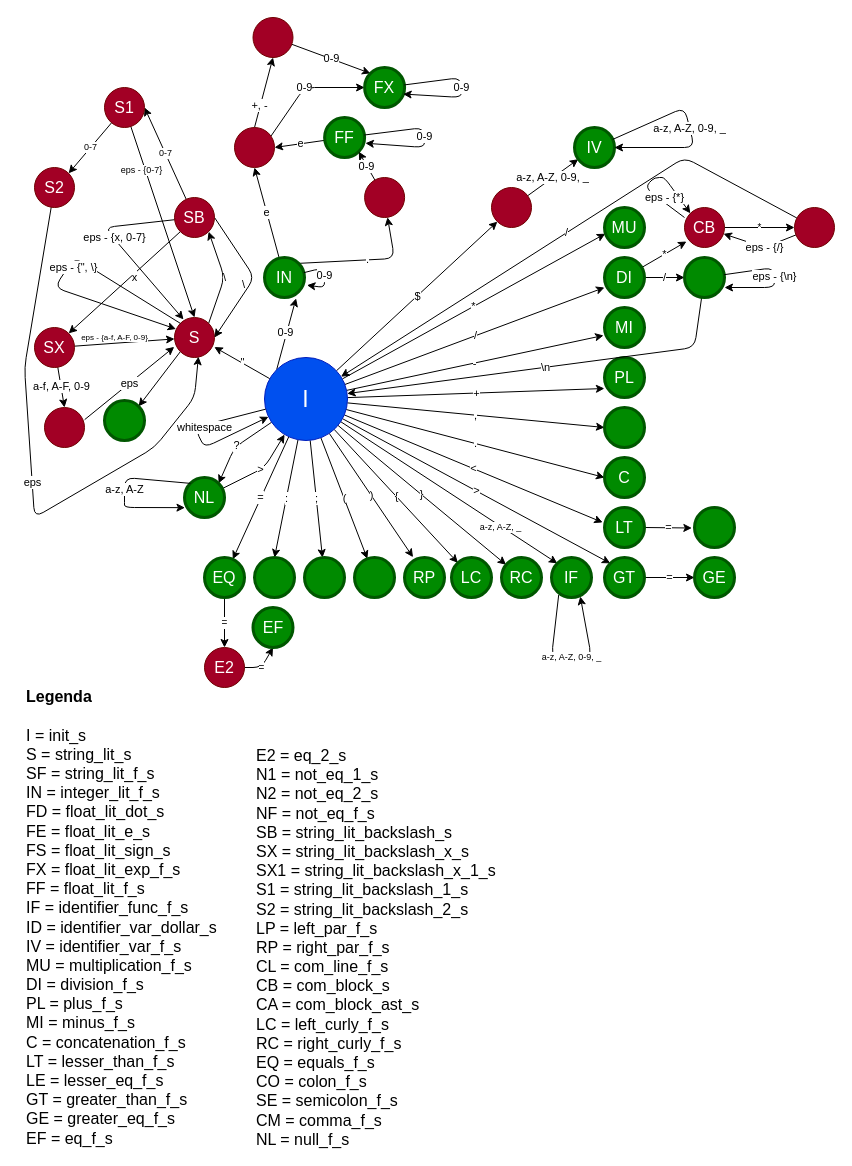
The diagram is 852 pixels wide and 1166 high, and some of its shapes have lost their labels. The shapes that lost their labels are listed below. From the top down, each one's box as (x1, y1, x2, y2) in pixels, then its label:
(252, 16, 293, 58): FS
(234, 126, 274, 168): FE
(364, 176, 405, 218): FD
(490, 186, 532, 228): ID
(794, 206, 834, 248): CA
(682, 256, 726, 298): CL
(44, 406, 84, 448): SX1
(102, 398, 146, 442): SF
(602, 406, 646, 448): CM
(692, 506, 736, 548): LE
(252, 556, 296, 598): CO
(302, 556, 346, 598): SE
(352, 556, 396, 598): LP
